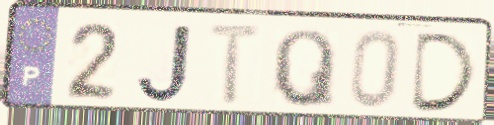0: (345, 28, 405, 114)
2: (65, 20, 121, 101)
D: (407, 30, 481, 114)
J: (133, 22, 196, 106)
Q: (270, 27, 338, 111)
T: (204, 21, 268, 110)
